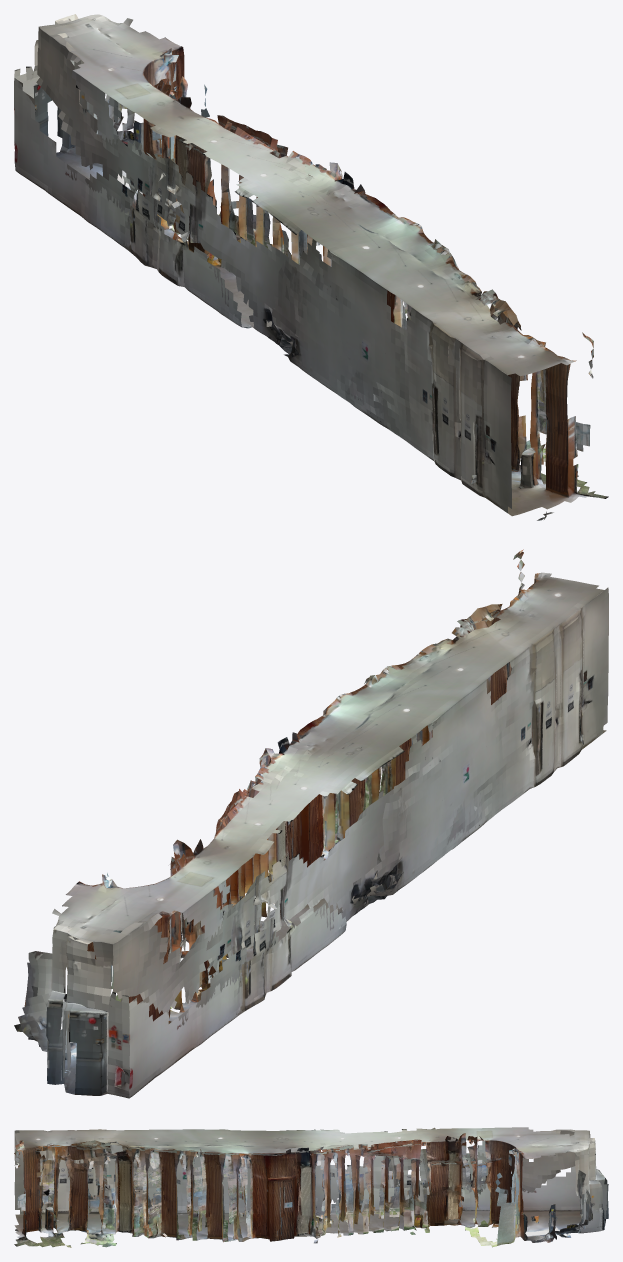
The model's file is Lg_corridor_IM.fbx.
3 views of the same model, one above another, from view 1: azimuth 30°, elevation 25°; view 2: azimuth 150°, elevation 25°; view 3: azimuth 270°, elevation 25° (orthographic). The views are drawn at different scales.
Parts seen in each view (by area): view 1: Lg_corridor_IM; view 2: Lg_corridor_IM; view 3: Lg_corridor_IM.
Boxes of the visible parts, x1,y1,x2,y2 form: Lg_corridor_IM: [14, 14, 608, 520]; Lg_corridor_IM: [14, 549, 608, 1098]; Lg_corridor_IM: [14, 1127, 608, 1247].
Bounding box in the file's own units: 316 × 475 × 2335.
1 material, 1 textured.
